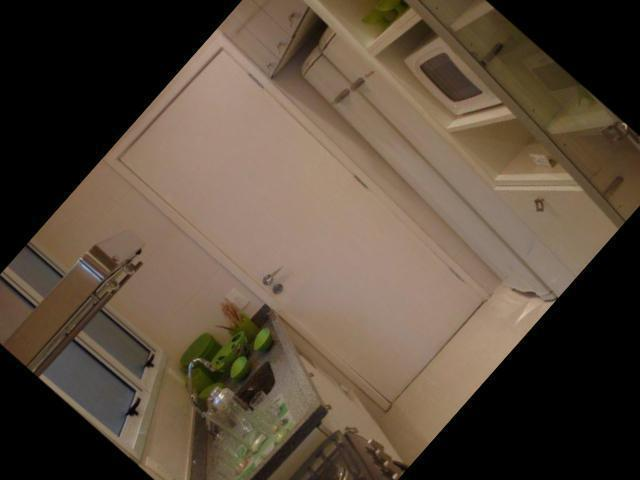Electrodomestico: (289, 39, 583, 308), (226, 409, 407, 480)
Lavaplatos: (157, 322, 283, 448)
Puerta: (109, 48, 490, 410)
